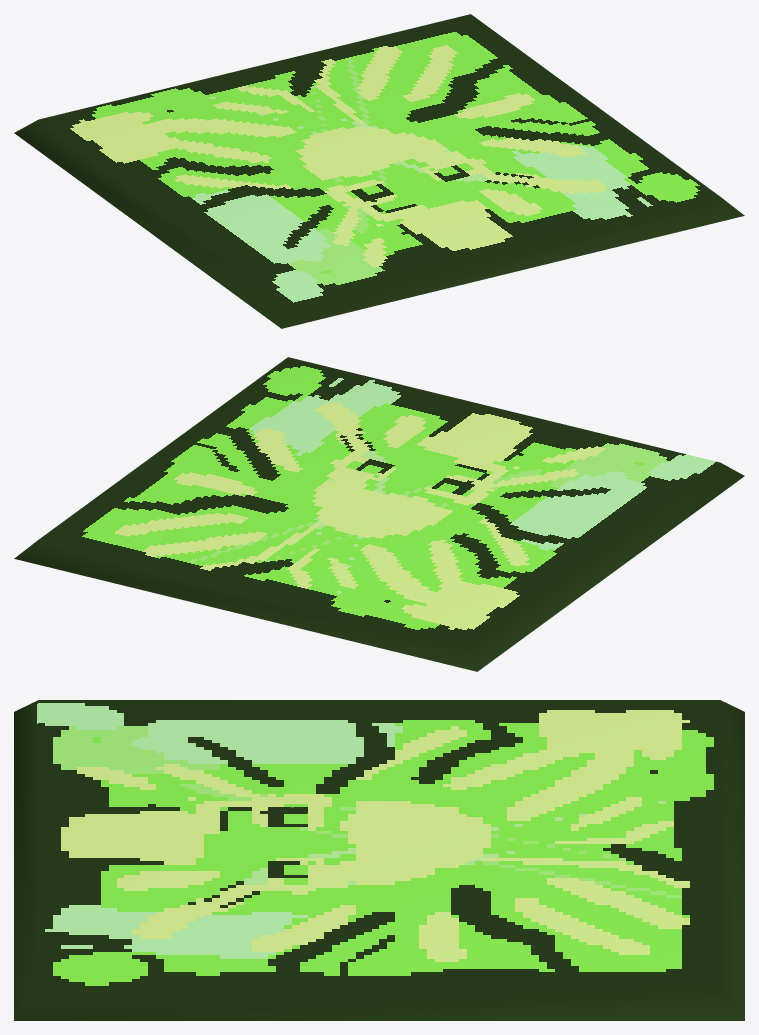
The model's file is CapacitorBase.glb.
3 views of the same model, one above another, from view 1: azimuth 30°, elevation 25°; view 2: azimuth 150°, elevation 25°; view 3: azimuth 270°, elevation 25° (orthographic). The views are drawn at different scales.
Visible parts, largest first — view 1: Cylinder.001; view 2: Cylinder.001; view 3: Cylinder.001.
Boxes of the visible parts, <box> form: Cylinder.001: <box>14,14,744,328</box>; Cylinder.001: <box>14,357,744,671</box>; Cylinder.001: <box>14,700,744,1020</box>.
Bounding box in the file's own units: 3 × 0.1 × 3.
1 material, 1 textured.
